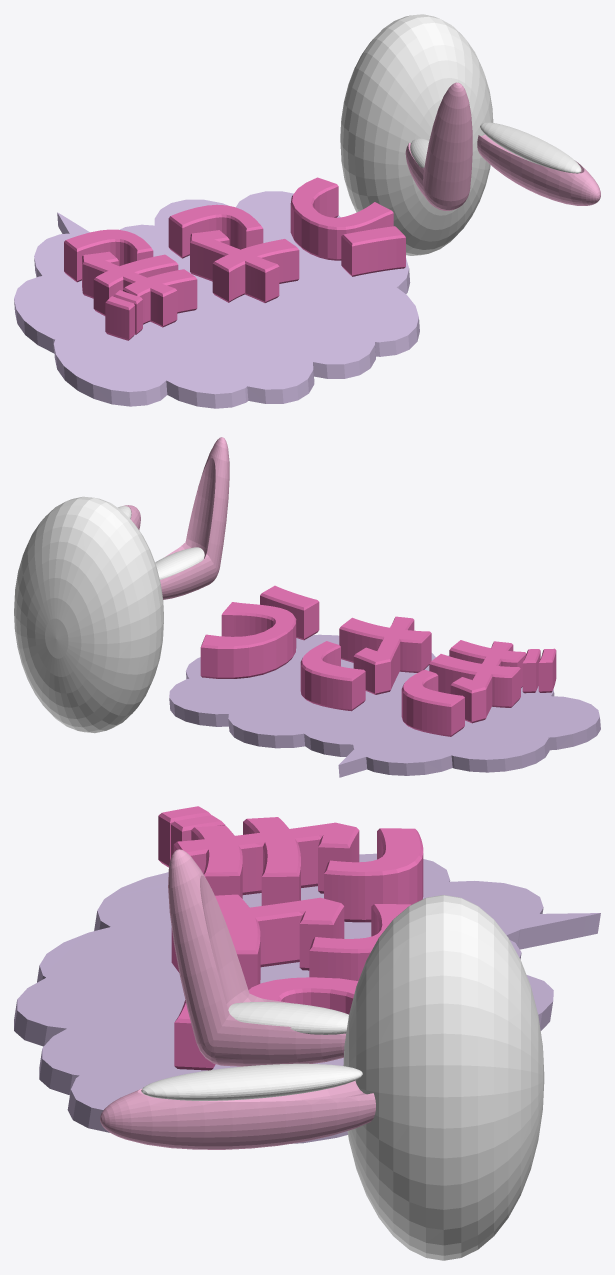
The model's file is tinker.obj.
3 views of the same model, one above another, from view 1: azimuth 30°, elevation 25°; view 2: azimuth 150°, elevation 25°; view 3: azimuth 270°, elevation 25° (orthographic). The views are drawn at different scales.
Parts seen in each view (by area): view 1: group_0_13877221, group_0_15693243, group_0_16448250, group_0_15708628; view 2: group_0_16448250, group_0_13877221, group_0_15693243, group_0_15708628; view 3: group_0_16448250, group_0_13877221, group_0_15693243, group_0_15708628.
Boxes of the visible parts, x1=… form: group_0_13877221: x1=14, y1=191, x2=419, y2=408; group_0_15693243: x1=64, y1=177, x2=405, y2=340; group_0_16448250: x1=340, y1=14, x2=581, y2=255; group_0_15708628: x1=405, y1=82, x2=600, y2=210; group_0_16448250: x1=14, y1=496, x2=204, y2=733; group_0_13877221: x1=169, y1=634, x2=600, y2=777; group_0_15693243: x1=200, y1=585, x2=556, y2=736; group_0_15708628: x1=122, y1=437, x2=229, y2=599; group_0_16448250: x1=141, y1=895, x2=544, y2=1260; group_0_13877221: x1=14, y1=853, x2=600, y2=1143; group_0_15693243: x1=158, y1=806, x2=423, y2=1070; group_0_15708628: x1=100, y1=849, x2=375, y2=1149.
Size of the model in its own units: 30 by 13.88 by 20.
